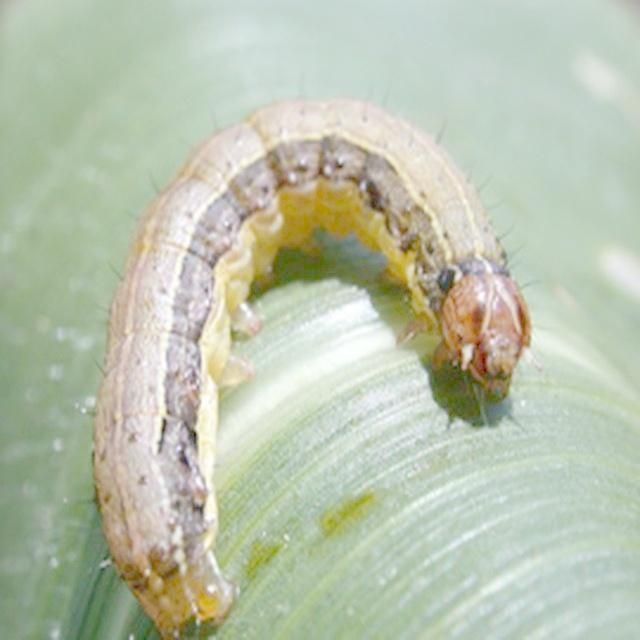gusano_cogollero: (92, 84, 534, 640)
